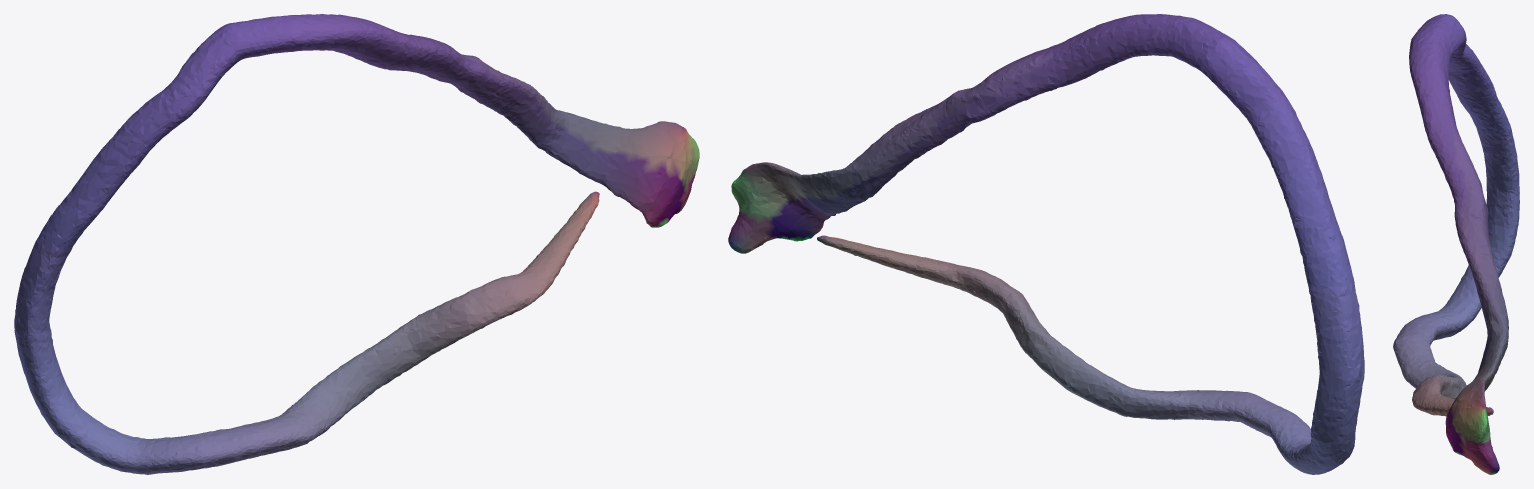
Rendered from snake-18.off.obj.
The picture shows the model from 3 angles, left to right: view 1: azimuth 30°, elevation 25°; view 2: azimuth 150°, elevation 25°; view 3: azimuth 270°, elevation 25°; orthographic projection. The views are drawn at different scales.
Bounding box in the file's own units: 1.57 × 0.9636 × 0.3094.
